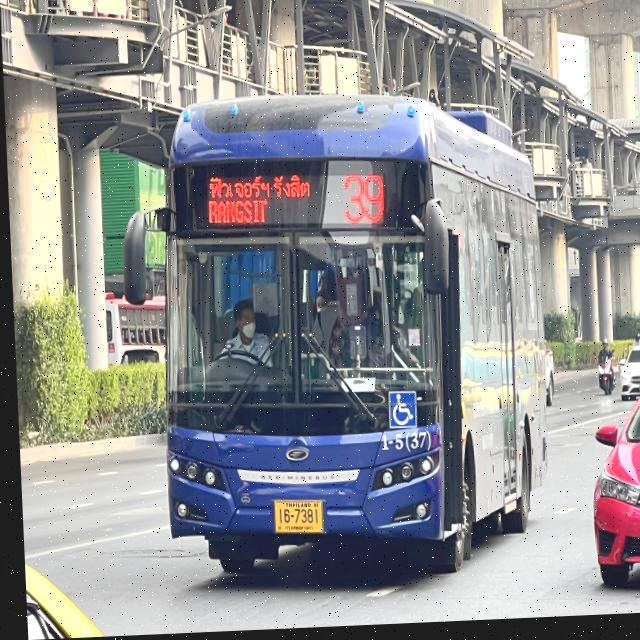Bus Line Number: (335, 171, 390, 235)
Bus Side Number: (372, 433, 430, 457)
Destination Sign: (202, 170, 315, 234)
TSB-Bus: (109, 83, 559, 602)
